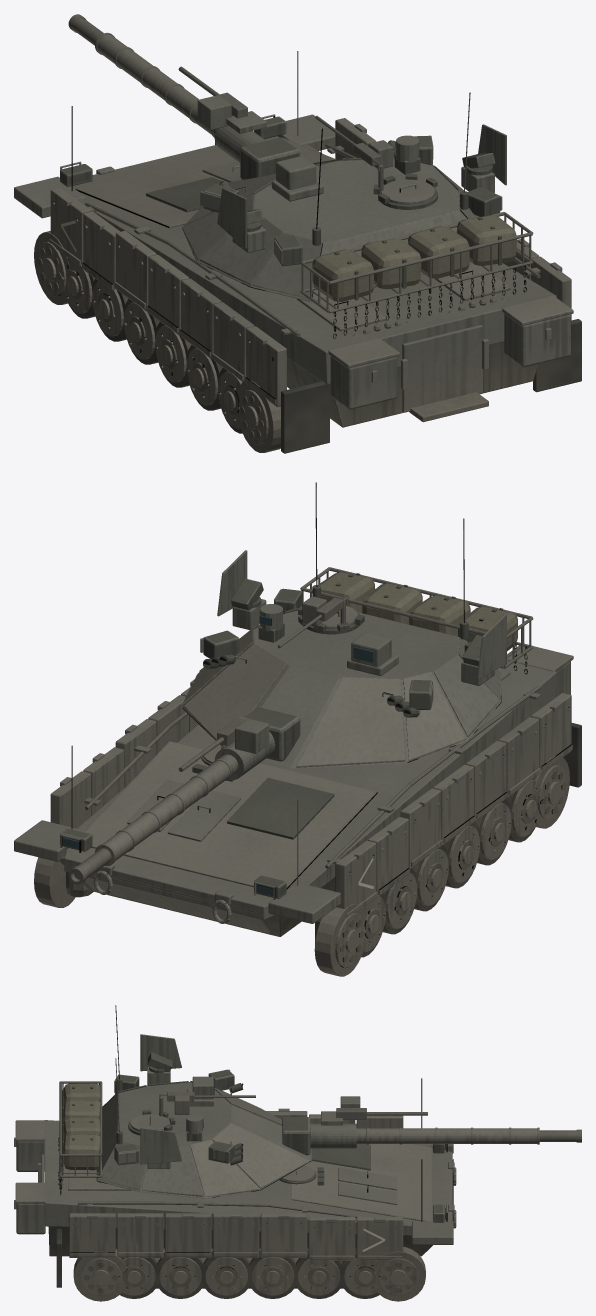
Rendered from merkava-mk4m.glb.
The picture shows the model from 3 angles, top to bottom: view 1: azimuth 30°, elevation 25°; view 2: azimuth 150°, elevation 25°; view 3: azimuth 270°, elevation 25°; orthographic projection. The views are drawn at different scales.
Parts seen in each view (by area): view 1: Hull, TurretGeometry, GunGeometry; view 2: Hull, TurretGeometry, GunGeometry; view 3: Hull, TurretGeometry, GunGeometry.
Part boxes in pixels (bbox=[...]): Hull: bbox=[14, 51, 581, 453]; TurretGeometry: bbox=[182, 92, 533, 338]; GunGeometry: bbox=[68, 14, 300, 179]; Hull: bbox=[14, 645, 581, 976]; TurretGeometry: bbox=[182, 482, 533, 768]; GunGeometry: bbox=[68, 707, 300, 884]; Hull: bbox=[14, 1078, 456, 1301]; TurretGeometry: bbox=[58, 1005, 311, 1198]; GunGeometry: bbox=[282, 1096, 581, 1155].
Bounding box in the file's own units: 2.11 × 1.95 × 4.62.
4 materials, 3 textured.
